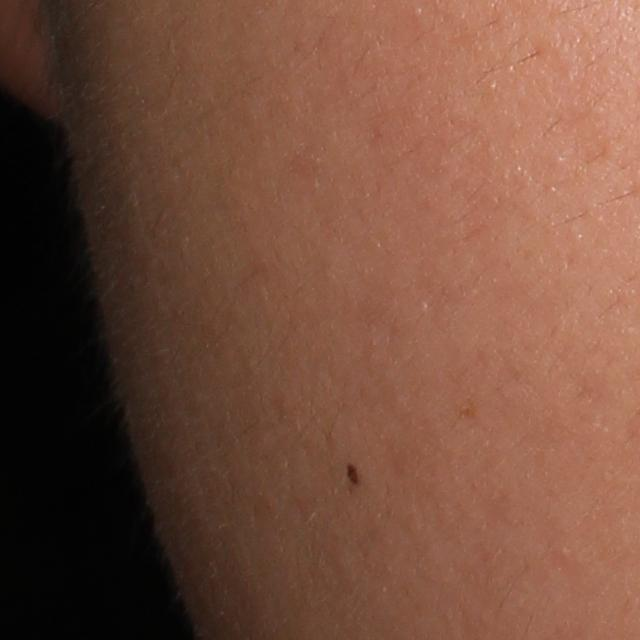nevus: (346, 463, 361, 485)
